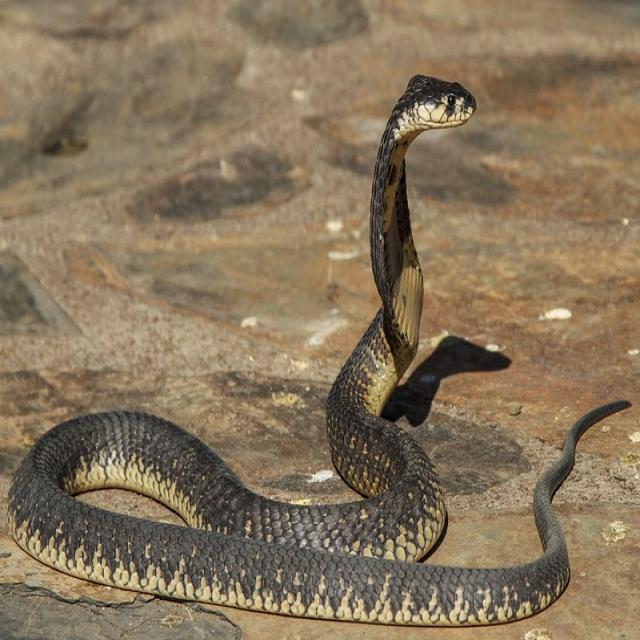Snake: (6, 72, 632, 628)
